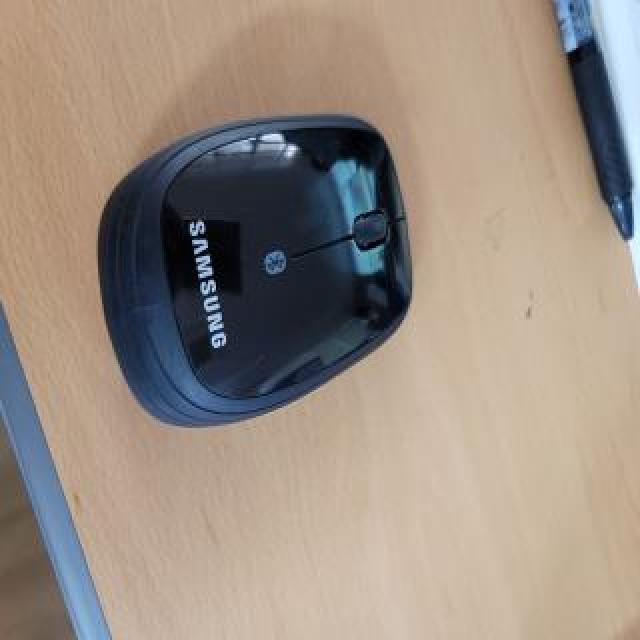mouse: (99, 116, 436, 436)
